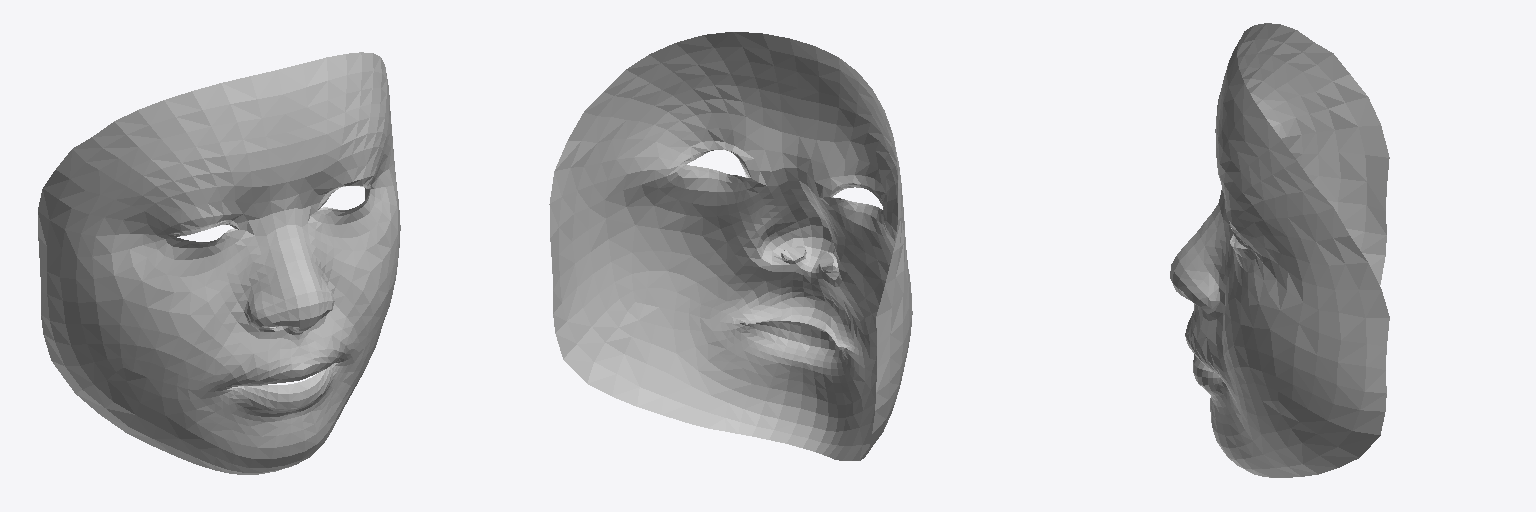
File: eyeWide_L.obj
3 views of the same model, side by side, from view 1: azimuth 30°, elevation 25°; view 2: azimuth 150°, elevation 25°; view 3: azimuth 270°, elevation 25° (orthographic).
Parts seen in each view (by area): view 1: default; view 2: default; view 3: default.
Part boxes in pixels (left/top/right/bottom): default: left=38, top=52, right=400, bottom=474; default: left=549, top=32, right=912, bottom=460; default: left=1170, top=23, right=1389, bottom=477.
Size of the model in its own units: 0.1624 by 0.1851 by 0.0913.